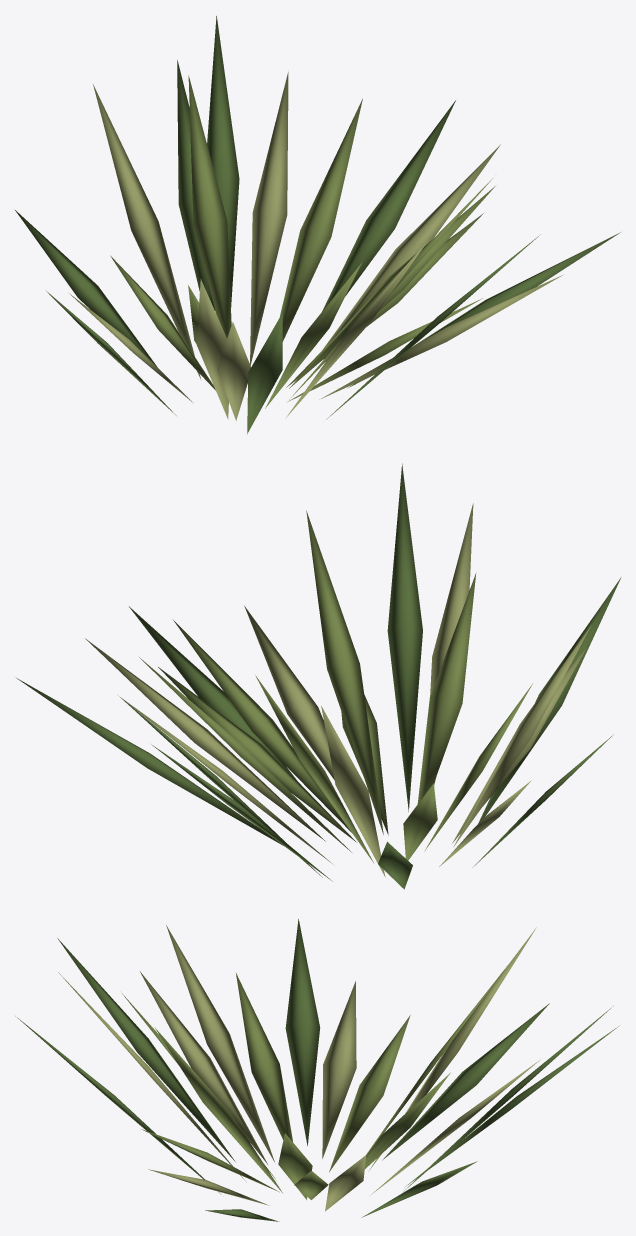
File: coast_grass_b.glb
3 renders of one model, top to bottom at view 1: azimuth 30°, elevation 25°; view 2: azimuth 150°, elevation 25°; view 3: azimuth 270°, elevation 25°, orthographic. The views are drawn at different scales.
Visible parts, largest first — view 1: coast_grass_b; view 2: coast_grass_b; view 3: coast_grass_b.
Part boxes in pixels (bbox=[...]): coast_grass_b: bbox=[15, 16, 620, 434]; coast_grass_b: bbox=[16, 463, 621, 889]; coast_grass_b: bbox=[15, 919, 618, 1221].
Size of the model in its own units: 0.9595 by 0.415 by 0.9654.
